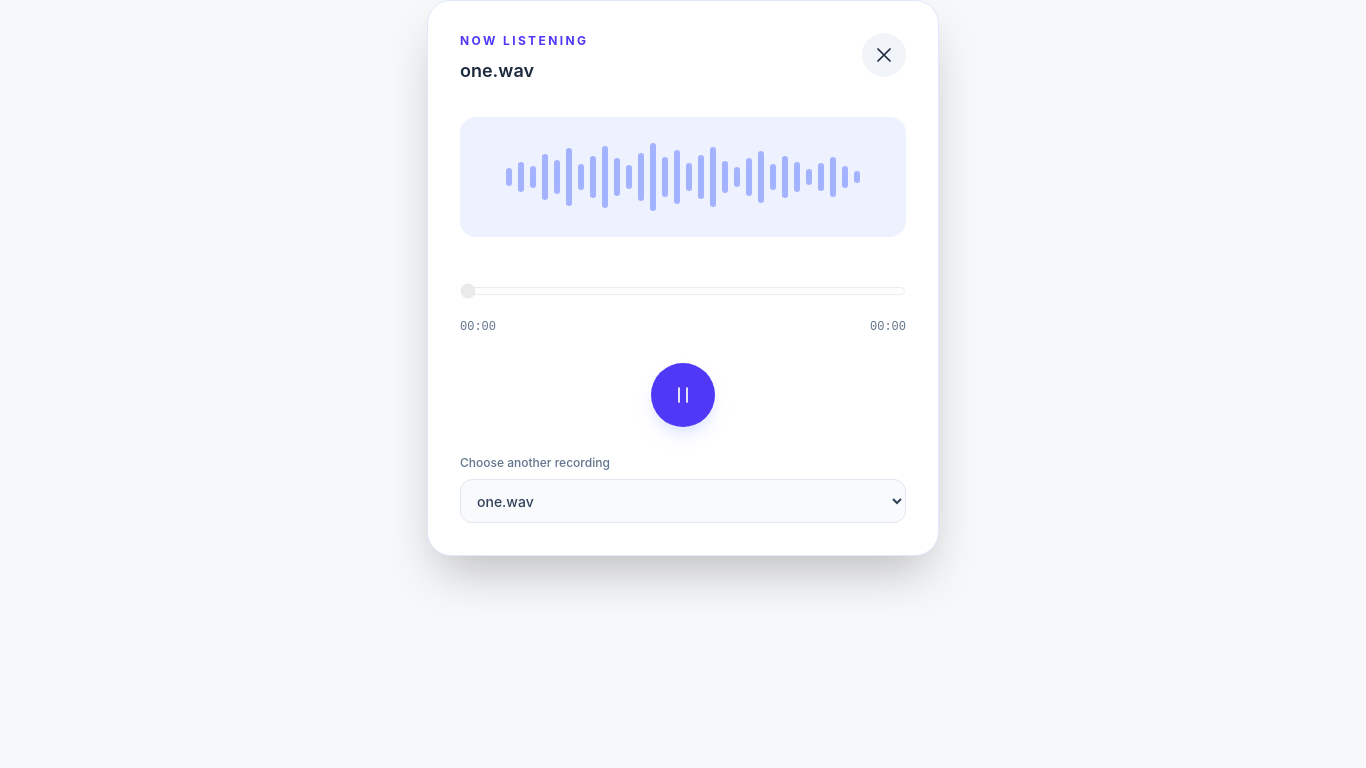
Scenario: audio player › pauses and resumes with the HTML5 Audio API
Click the button named "Pause" at (683, 395), box [651,363,715,427]
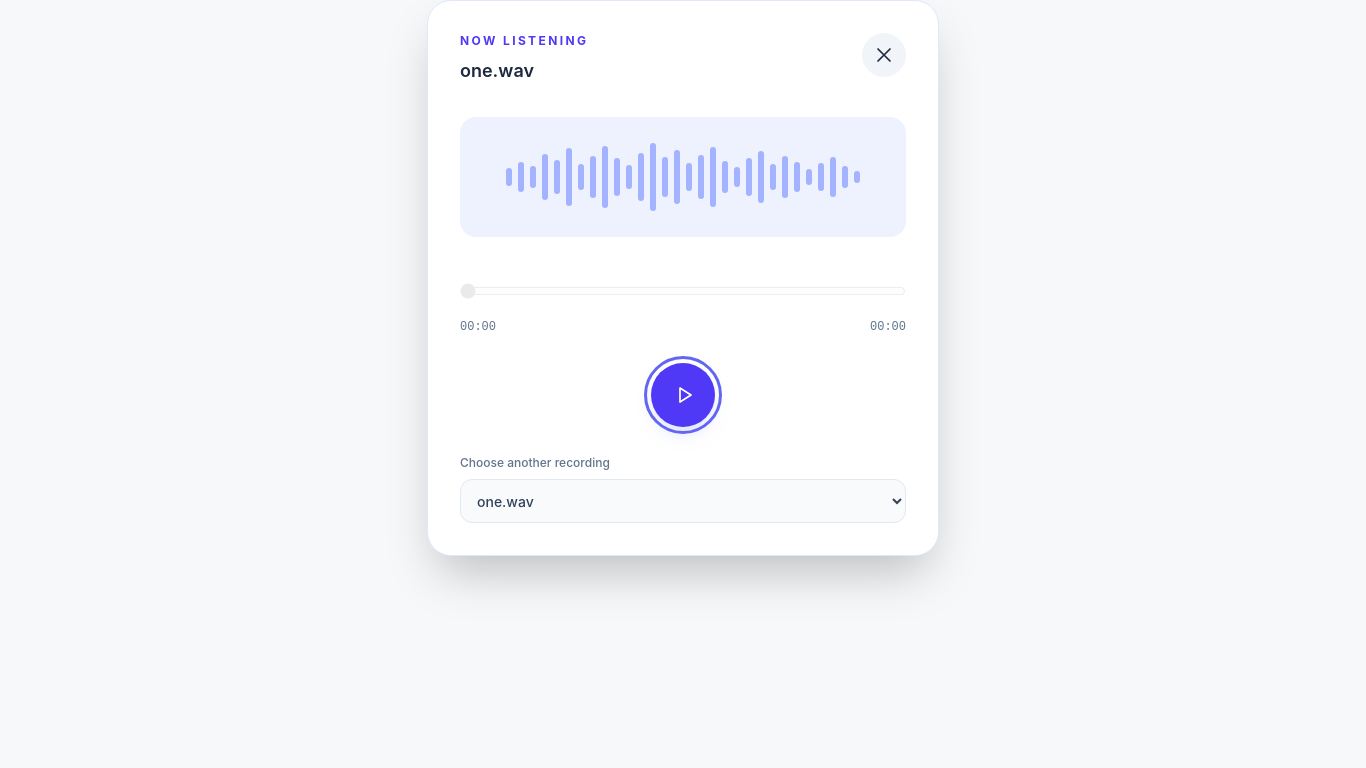
Click the button named "Play" at (683, 395), box [651,363,715,427]
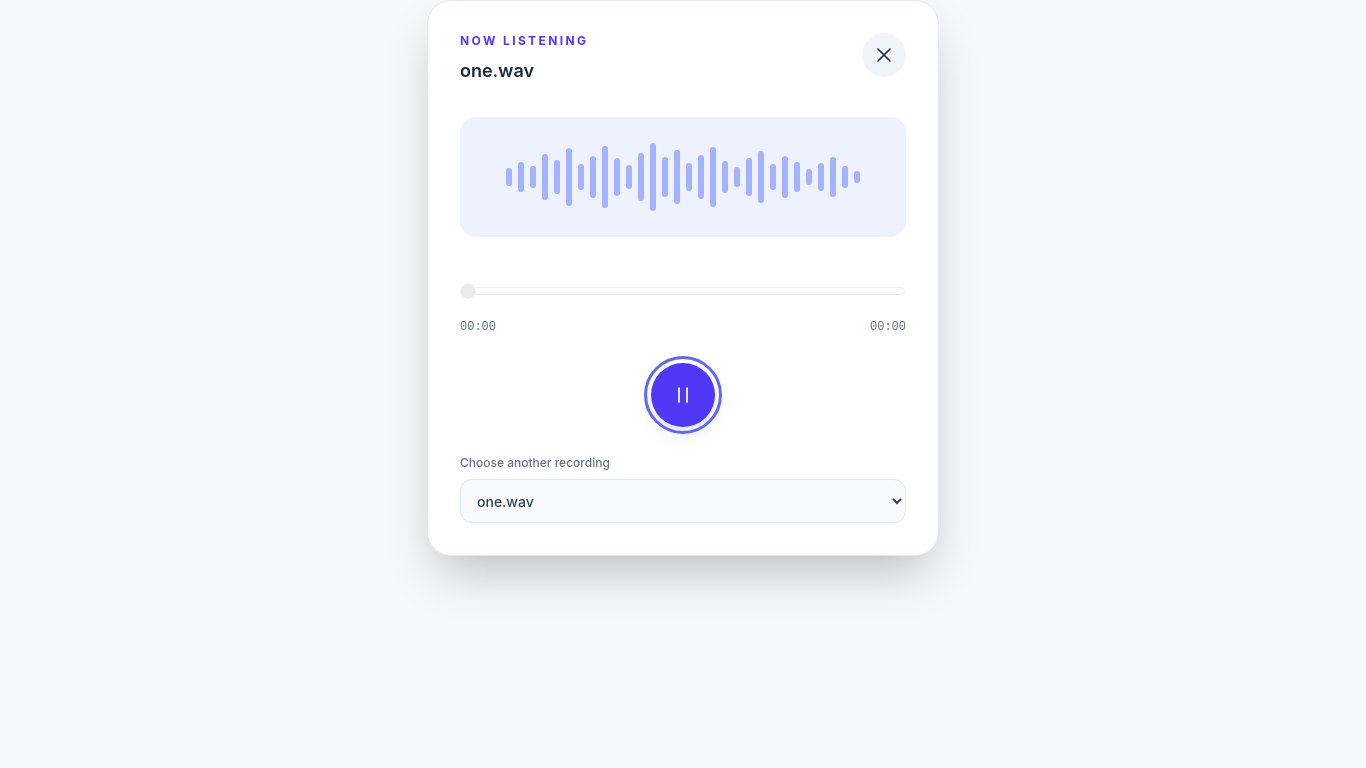
expect the button named "Pause" is shown: met, box [651,363,715,427]
